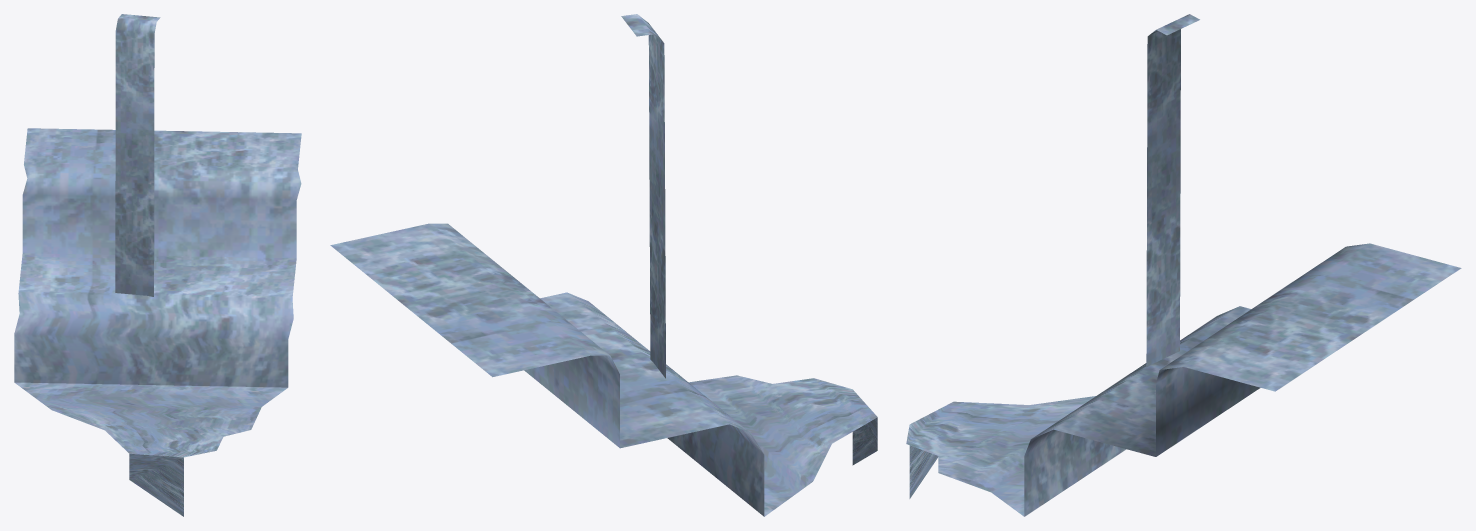
The model's file is HD_texiao_01.fbx.
3 views of the same model, side by side, from view 1: azimuth 30°, elevation 25°; view 2: azimuth 150°, elevation 25°; view 3: azimuth 270°, elevation 25° (orthographic). The views are drawn at different scales.
Visible parts, largest first — view 1: HD_texiao_01; view 2: HD_texiao_01; view 3: HD_texiao_01.
Part boxes in pixels (x1,y1,x2,y2): HD_texiao_01: [14, 14, 301, 516]; HD_texiao_01: [330, 14, 877, 516]; HD_texiao_01: [906, 14, 1461, 516].
Size of the model in its own units: 34.44 by 41.87 by 42.69.
